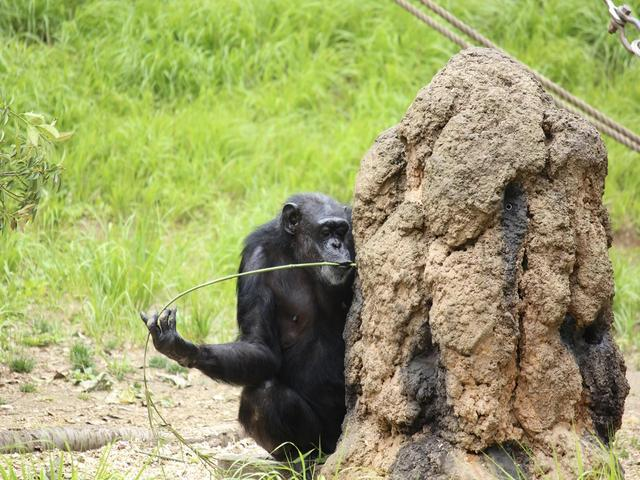monkey: (180, 156, 374, 453)
